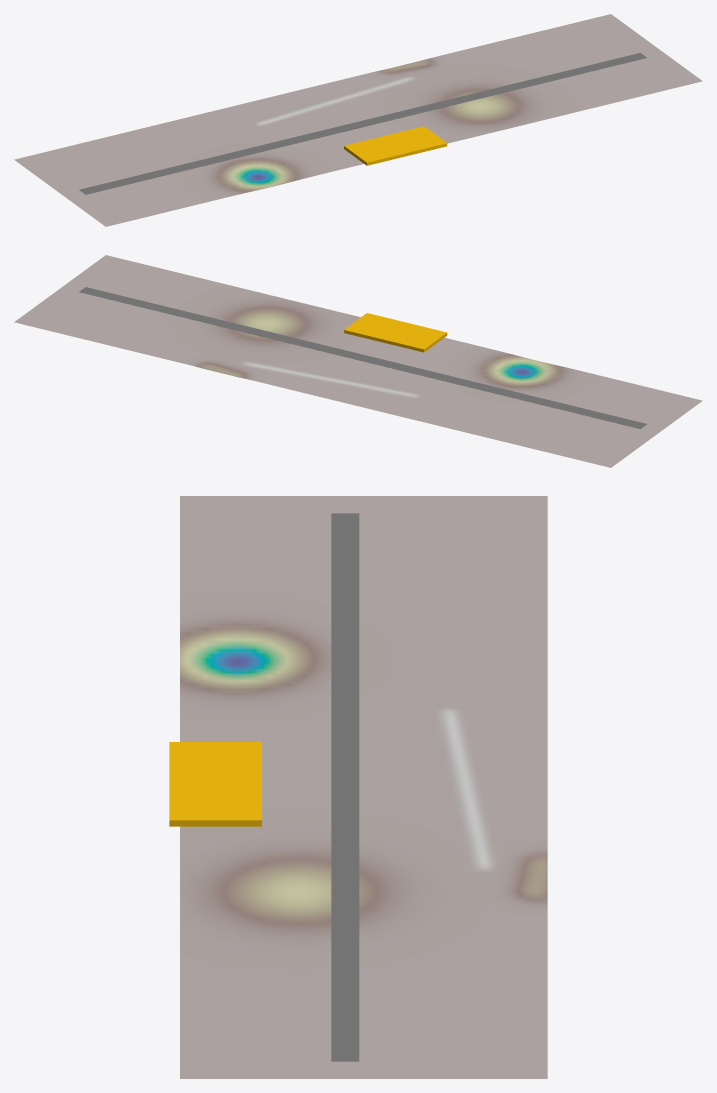
Rendered from final_airport_design.glb.
3 views of the same model, one above another, from view 1: azimuth 30°, elevation 25°; view 2: azimuth 150°, elevation 25°; view 3: azimuth 270°, elevation 25° (orthographic). The views are drawn at different scales.
Visible parts, largest first — view 1: world; view 2: world; view 3: world.
Boxes of the visible parts, bbox=[...] form: world: bbox=[14, 14, 702, 226]; world: bbox=[14, 255, 702, 467]; world: bbox=[169, 496, 547, 1078].
Bounding box in the file's own units: 2977 × 22.63 × 817.
